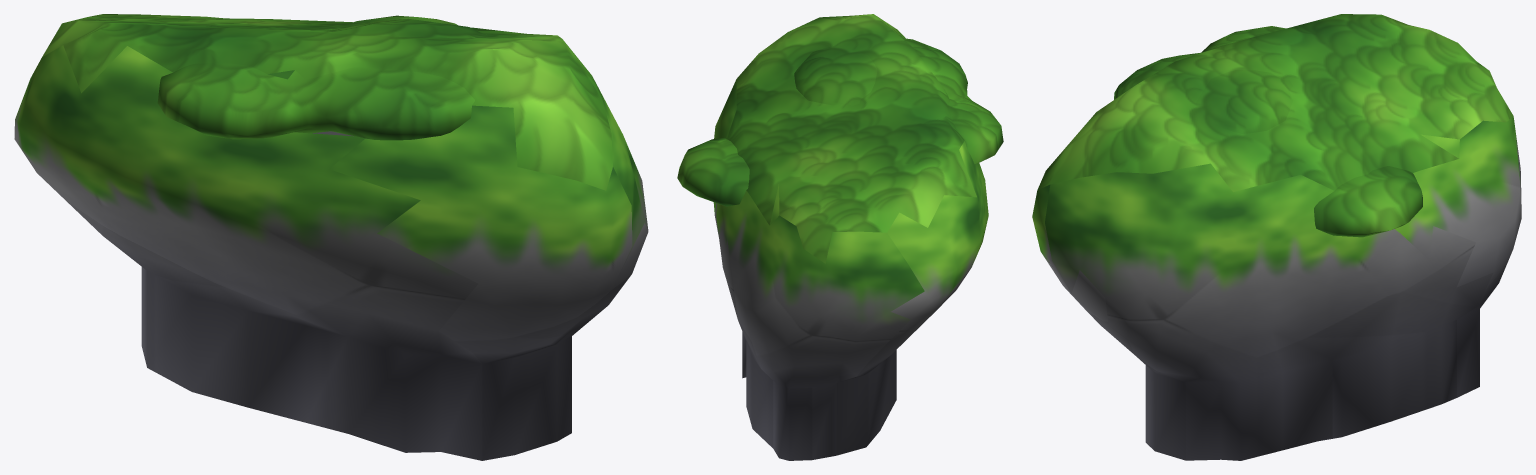
The model's file is Rock_Mossy_01.fbx.
The picture shows the model from 3 angles, left to right: view 1: azimuth 30°, elevation 25°; view 2: azimuth 150°, elevation 25°; view 3: azimuth 270°, elevation 25°; orthographic projection. The views are drawn at different scales.
Visible parts, largest first — view 1: Rock_Mossy_01; view 2: Rock_Mossy_01; view 3: Rock_Mossy_01.
Part boxes in pixels (x1,y1,x2,y2): Rock_Mossy_01: [14, 14, 648, 460]; Rock_Mossy_01: [677, 14, 1003, 460]; Rock_Mossy_01: [1032, 14, 1521, 460].
Bounding box in the file's own units: 1.15 × 1.04 × 1.37.
Materials: 1 (1 with a texture image).
